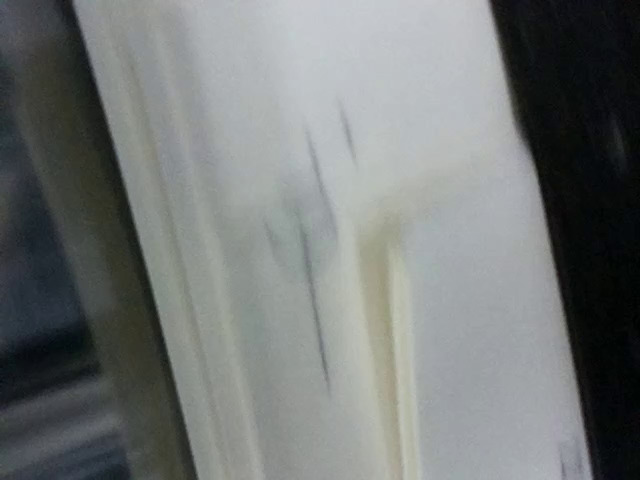not_sure: (256, 192, 352, 288)
